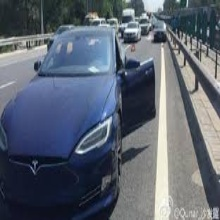no damage: (1, 26, 156, 220), (123, 22, 142, 43), (154, 30, 170, 43)
